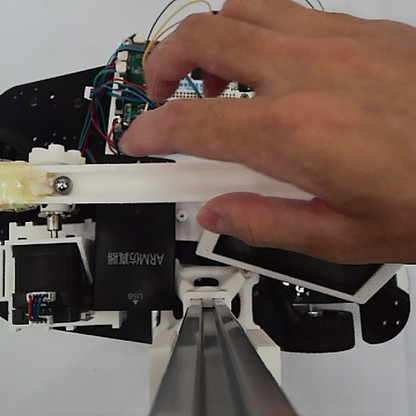ironball: (51, 173, 73, 196)
